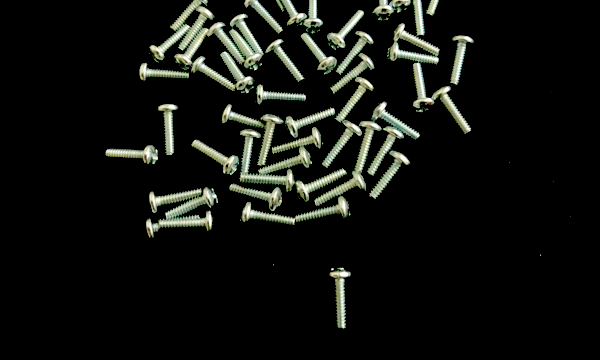shortscrew: (369, 151, 412, 201), (431, 86, 473, 135), (371, 101, 421, 141), (295, 168, 349, 204), (264, 38, 305, 85), (314, 172, 367, 208), (367, 127, 405, 177), (335, 77, 375, 124), (164, 185, 219, 219), (191, 140, 241, 177), (335, 30, 375, 76), (330, 54, 376, 94), (326, 9, 366, 52), (148, 24, 191, 64), (178, 7, 216, 52), (326, 267, 353, 330), (209, 21, 246, 66), (295, 197, 352, 226), (392, 23, 442, 56), (284, 108, 337, 139), (158, 210, 216, 238), (229, 183, 283, 213), (258, 147, 313, 176), (256, 113, 285, 168), (146, 188, 201, 217), (229, 13, 264, 58), (272, 127, 324, 157), (239, 202, 296, 229), (229, 29, 264, 72), (239, 168, 295, 194), (244, 0, 284, 35), (450, 35, 476, 86), (387, 42, 440, 67), (219, 105, 265, 132), (170, 0, 210, 31), (411, 63, 436, 112), (237, 130, 263, 177), (254, 84, 307, 107), (106, 145, 159, 167), (140, 62, 190, 85), (160, 103, 180, 158), (273, 0, 309, 29), (406, 0, 428, 38), (304, 0, 324, 35), (425, 0, 456, 18), (373, 0, 395, 22), (387, 0, 412, 14)
